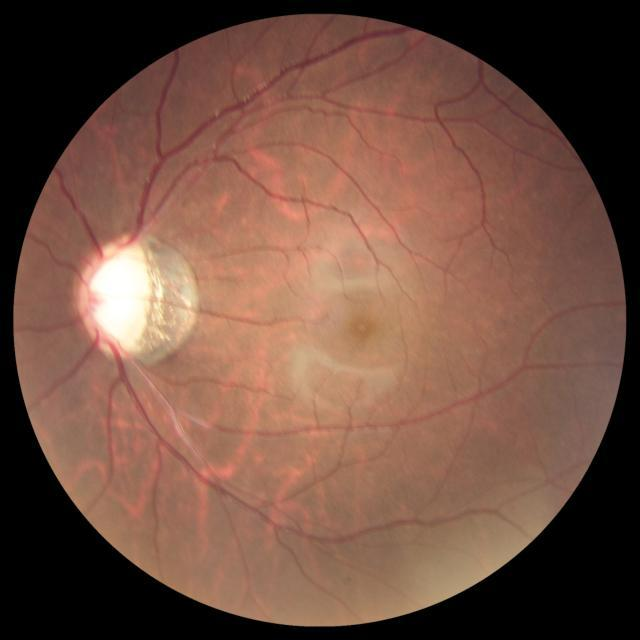OC: (90, 247, 146, 344)
OD: (76, 235, 199, 366)
